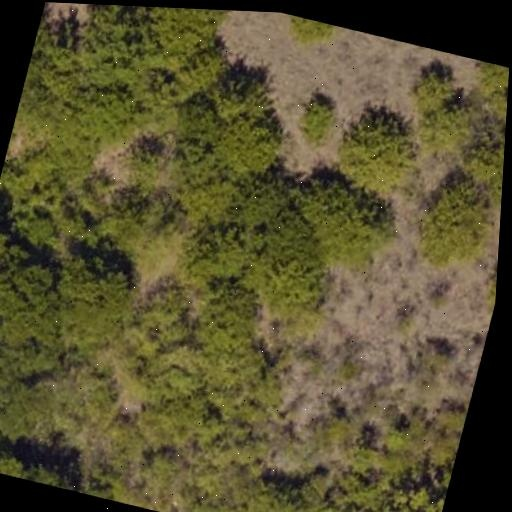tree-top: (185, 184, 341, 315), (40, 240, 153, 359), (195, 73, 301, 188), (86, 180, 202, 284), (292, 173, 404, 280), (403, 165, 503, 279), (323, 97, 427, 206), (395, 56, 487, 161), (245, 239, 347, 332), (57, 65, 157, 158), (181, 277, 277, 373), (125, 6, 234, 85), (63, 3, 152, 97), (317, 450, 451, 512), (0, 240, 76, 347), (0, 325, 63, 440), (171, 162, 251, 234), (20, 1, 67, 102), (455, 112, 507, 202), (238, 469, 319, 512), (24, 450, 89, 494), (0, 419, 43, 482), (294, 90, 343, 145), (277, 13, 343, 53), (462, 58, 510, 109), (471, 255, 498, 329)
